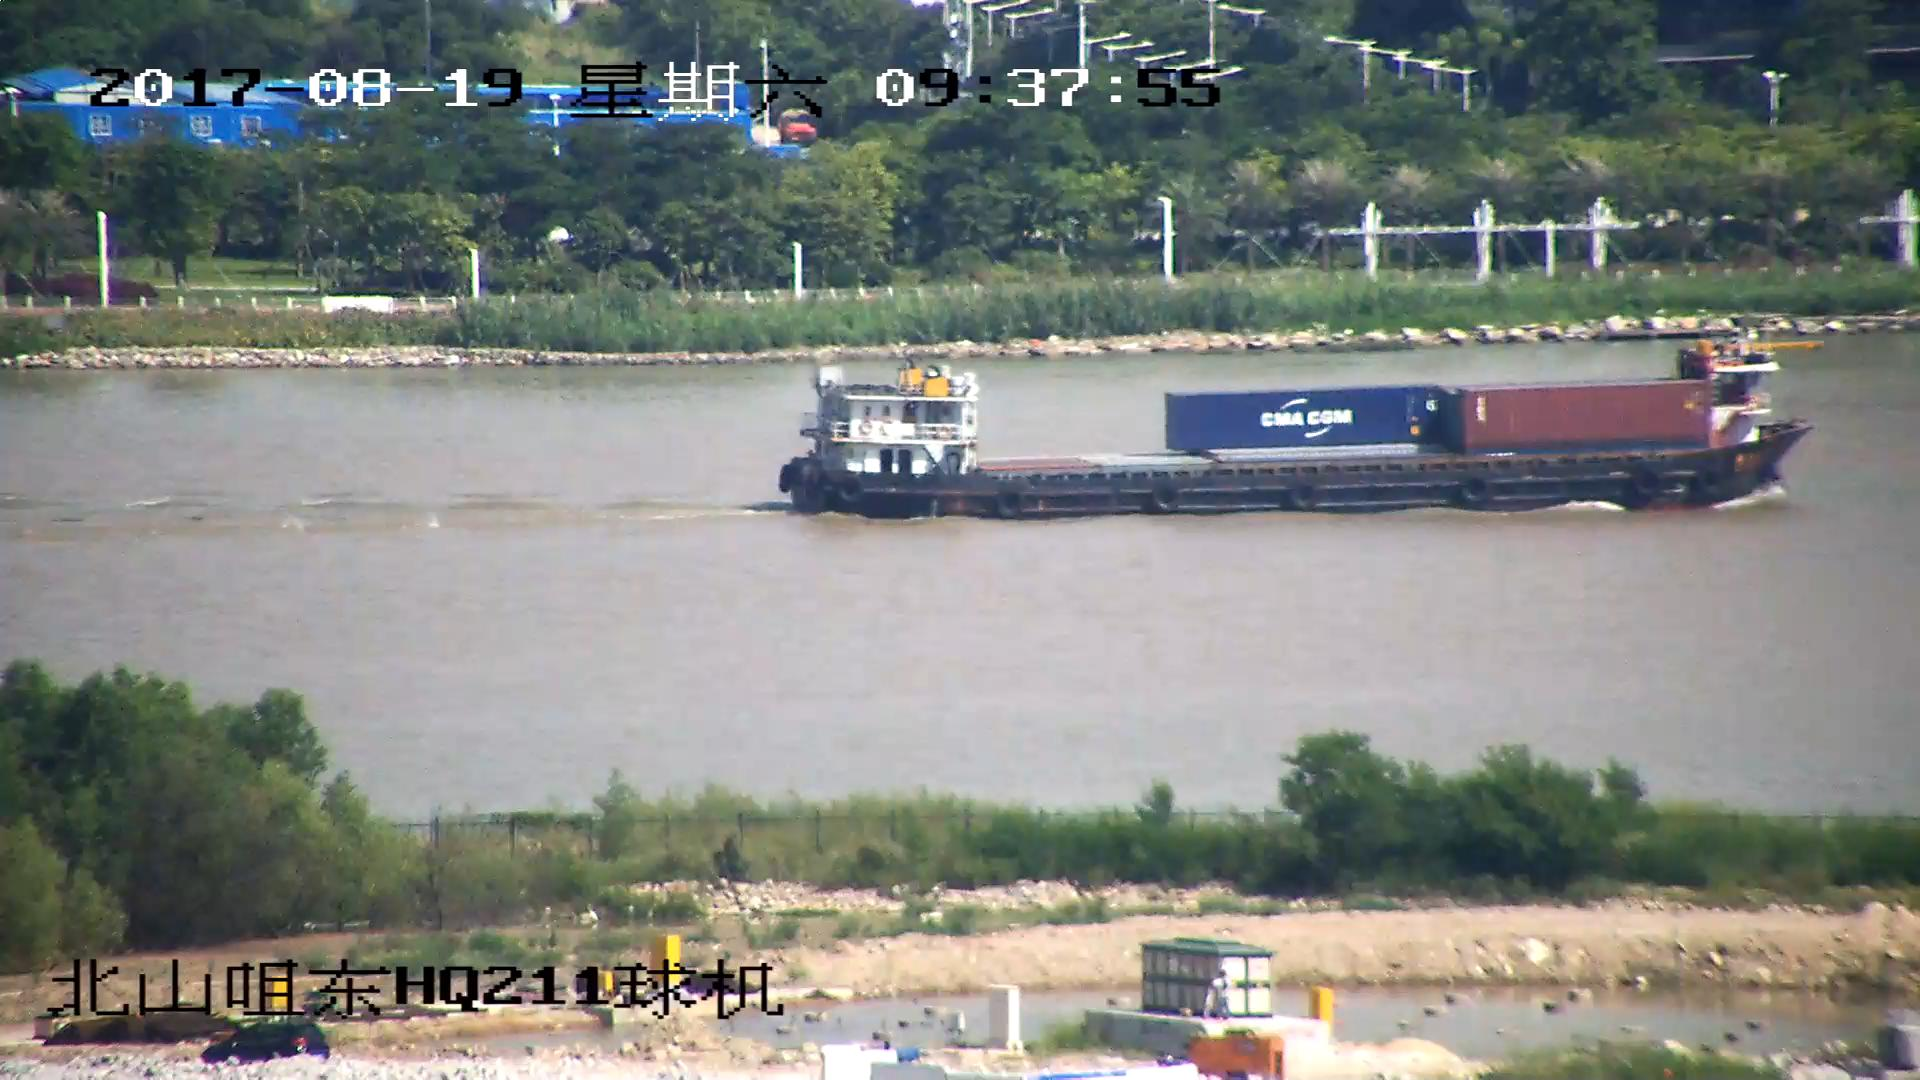container ship: (780, 341, 1820, 518)
